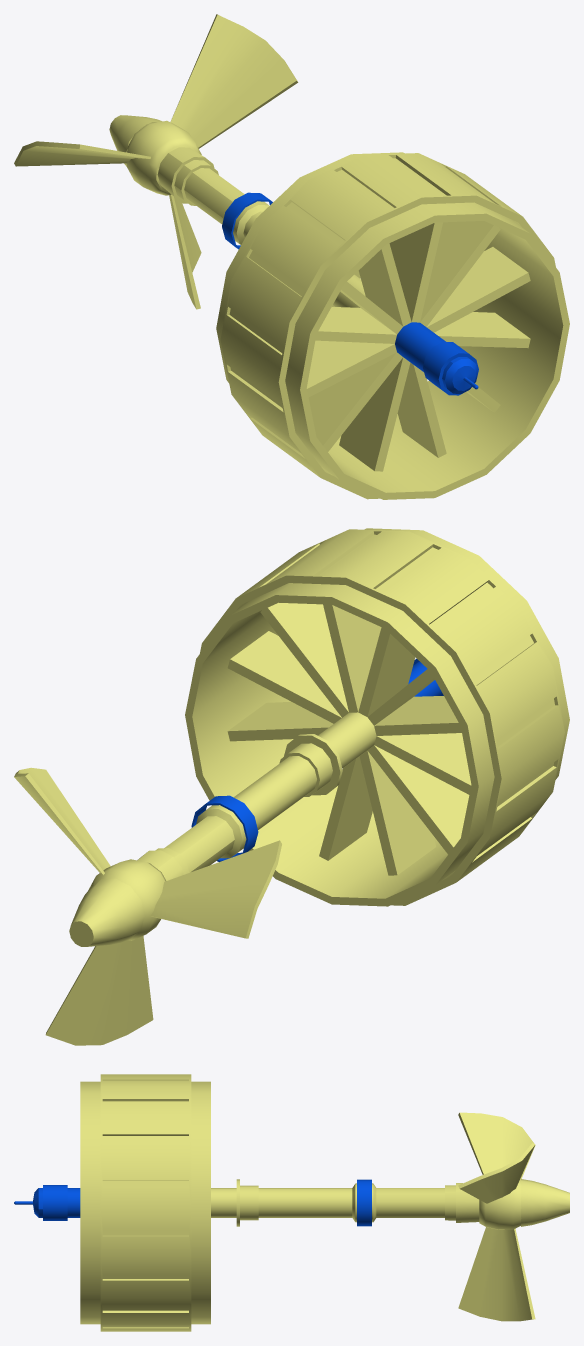
The model's file is Propeller.fbx.
The picture shows the model from 3 angles, top to bottom: view 1: azimuth 30°, elevation 25°; view 2: azimuth 150°, elevation 25°; view 3: azimuth 270°, elevation 25°; orthographic projection. The views are drawn at different scales.
Visible parts, largest first — view 1: front_propeller, inner_ring, out_ring, propeller, propeller_cpa; view 2: front_propeller, inner_ring, out_ring, propeller, propeller_cpa; view 3: out_ring, front_propeller, propeller, inner_ring, propeller_cpa.
Part boxes in pixels (box(x1,y1,x2,y2)): front_propeller: box(109, 115, 530, 471); inner_ring: box(216, 152, 569, 499); out_ring: box(220, 153, 555, 499); propeller: box(14, 14, 298, 309); propeller_cpa: box(222, 192, 272, 249); front_propeller: box(69, 602, 471, 946); inner_ring: box(185, 528, 569, 906); out_ring: box(200, 529, 564, 905); propeller: box(14, 767, 281, 1045); propeller_cpa: box(191, 795, 258, 861); out_ring: box(100, 1074, 191, 1331); front_propeller: box(14, 1179, 569, 1226); propeller: box(458, 1112, 535, 1321); inner_ring: box(80, 1081, 210, 1324); propeller_cpa: box(357, 1179, 371, 1226).
Size of the model in its own units: 568 by 568 by 1225.
